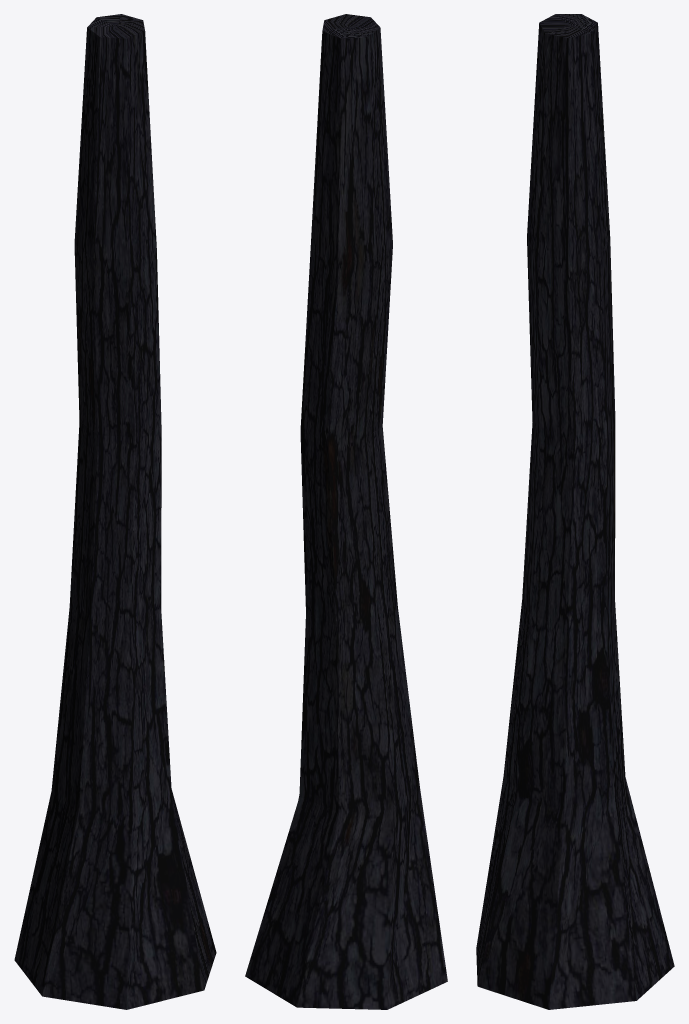
File: treetest4.fbx
3 views of the same model, side by side, from view 1: azimuth 30°, elevation 25°; view 2: azimuth 150°, elevation 25°; view 3: azimuth 270°, elevation 25° (orthographic).
Visible parts, largest first — view 1: Root; view 2: Root; view 3: Root.
Part boxes in pixels (x1=…): Root: x1=14, y1=14, x2=216, y2=1009; Root: x1=245, y1=14, x2=447, y2=1009; Root: x1=476, y1=14, x2=674, y2=1009.
Size of the model in its own units: 5.25 by 26.88 by 5.14.
